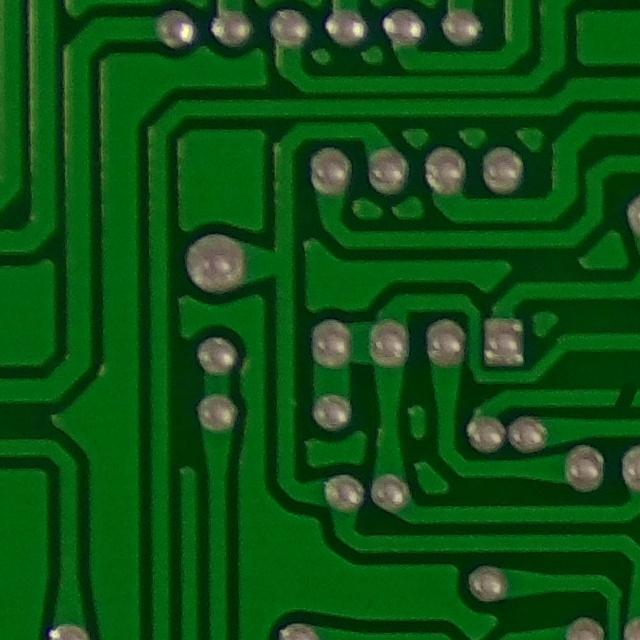open_circuit: (598, 377, 640, 416)
